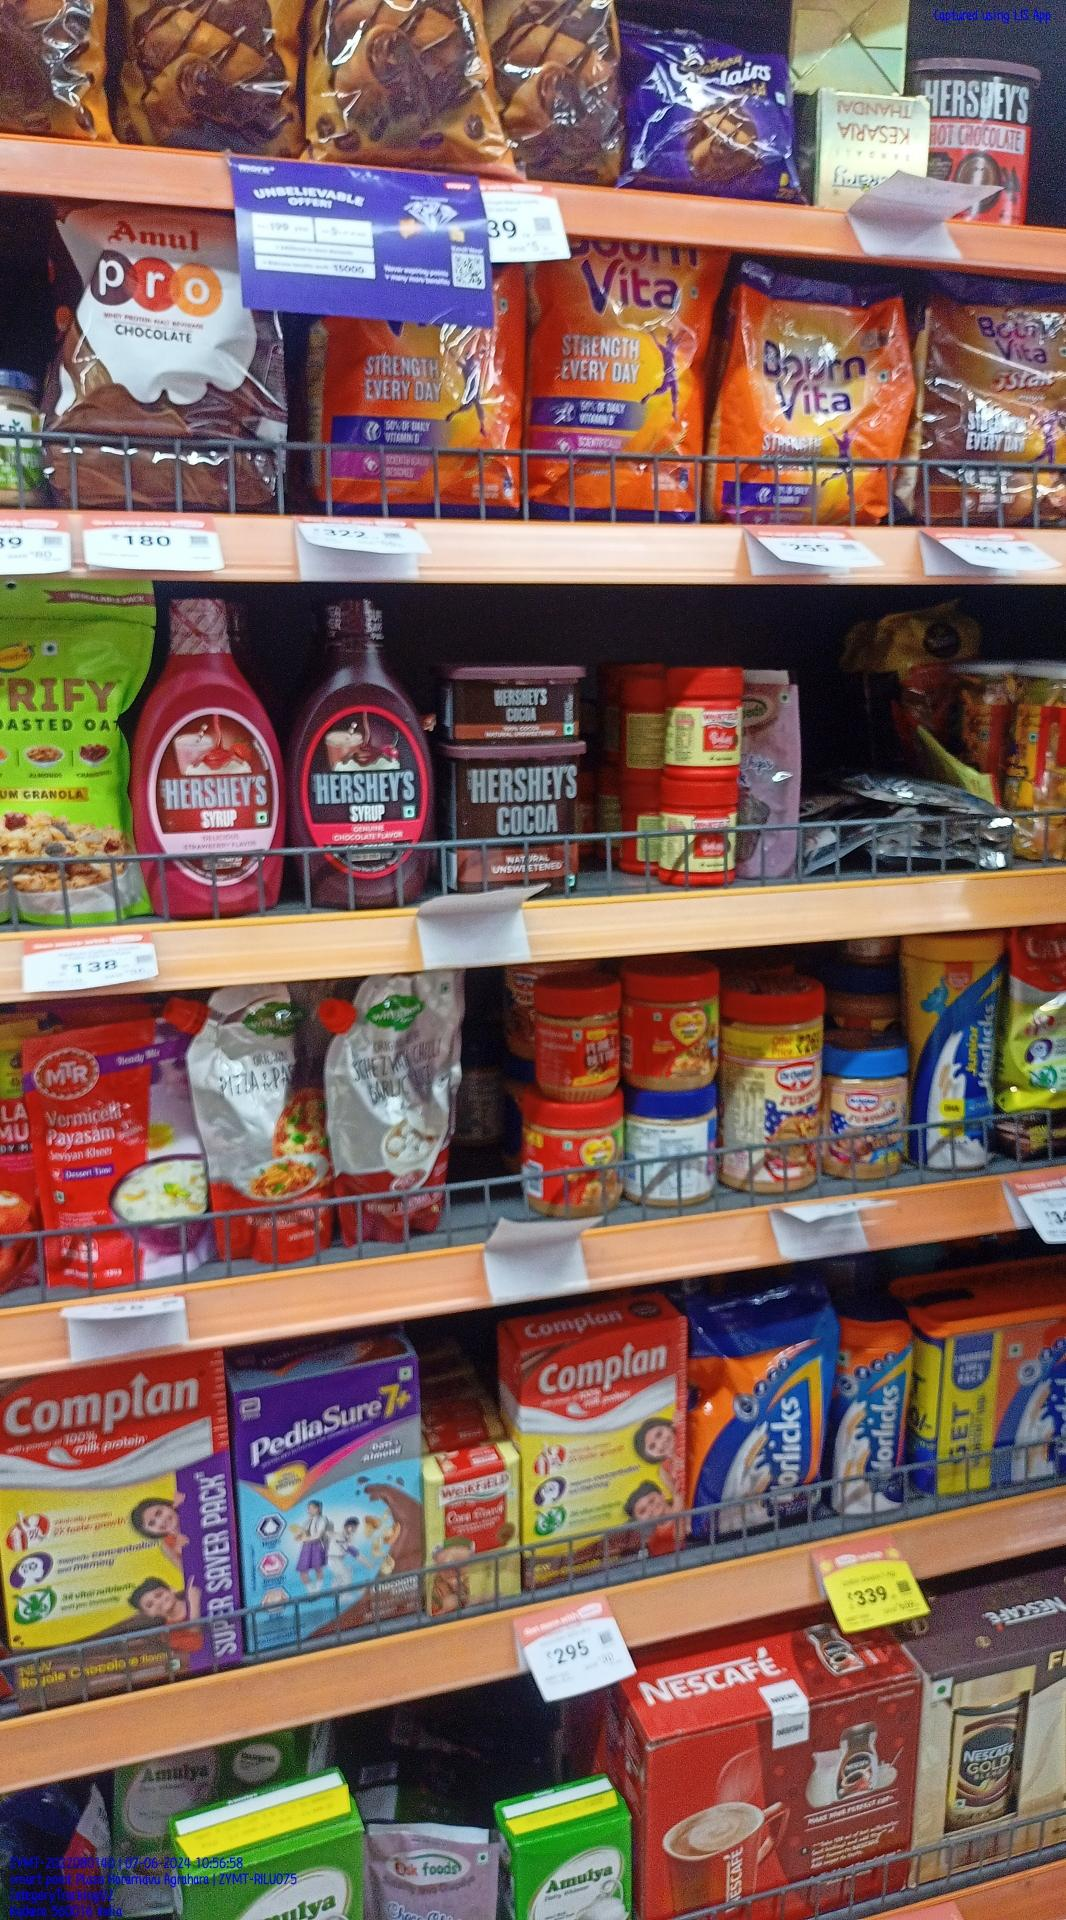BOURN_VITA_FIVE_STAR_MAGIC_500_G_POUCH: (918, 280, 1066, 513)
HORLICK_CLASSIC_MALT_500_G_JAR: (832, 1303, 912, 1533)
PEDIASURE_7_PLUS_CHOCOLATE_400_G_PACK: (239, 1358, 431, 1627)
